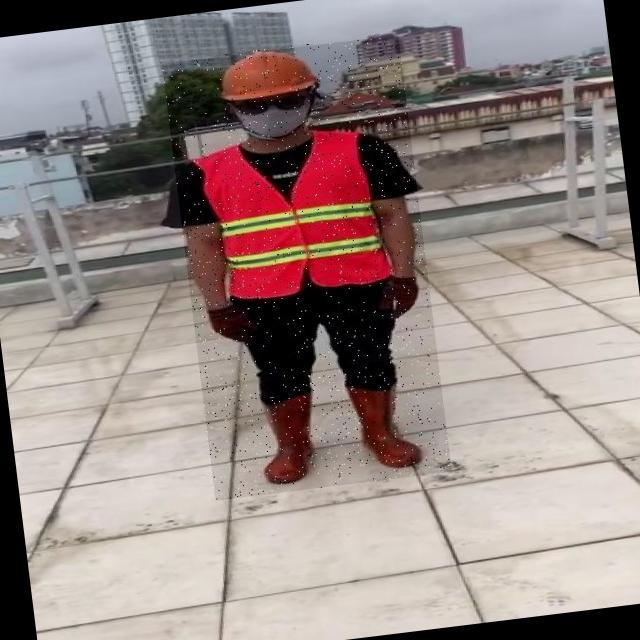Gloves: (206, 303, 258, 348), (376, 276, 423, 323)
Helmet: (213, 43, 320, 103)
Human: (162, 35, 452, 501)
Safety Boot: (346, 378, 426, 472), (255, 392, 325, 485)
Safety Vest: (200, 129, 387, 302)
